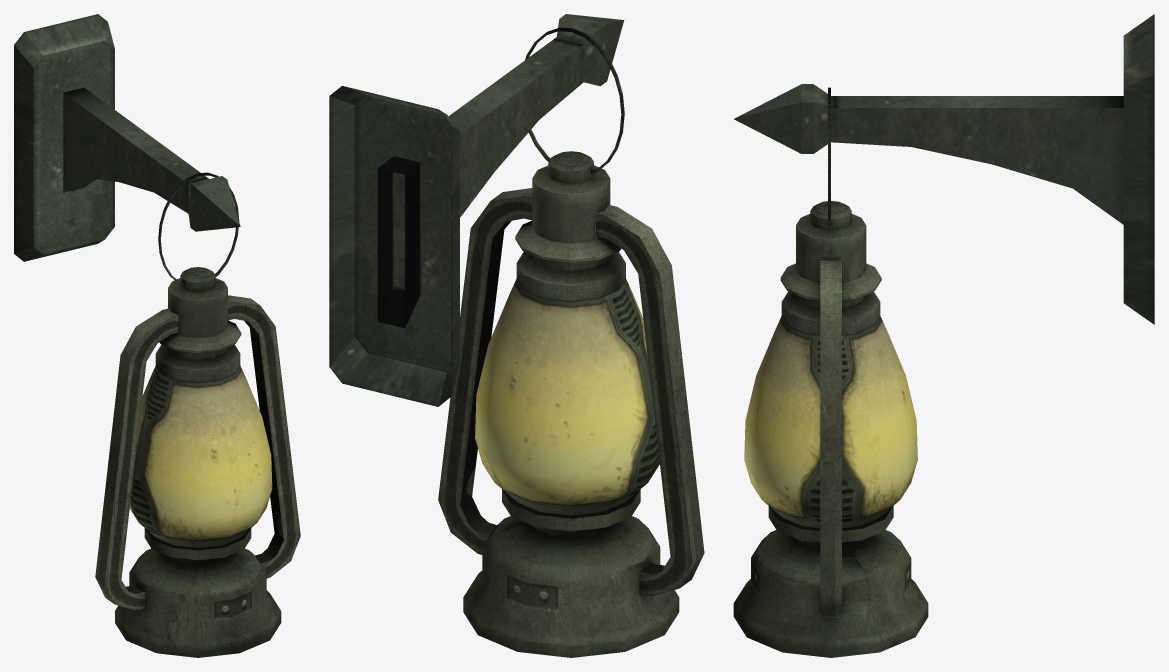
File: WallLamp.DAE
3 renders of one model, left to right at view 1: azimuth 30°, elevation 25°; view 2: azimuth 150°, elevation 25°; view 3: azimuth 270°, elevation 25°, orthographic. The views are drawn at different scales.
Parts seen in each view (by area): view 1: Wall_Lamp; view 2: Wall_Lamp; view 3: Wall_Lamp.
Part boxes in pixels (box(x1,y1,x2,y2)): Wall_Lamp: box(14, 14, 300, 657); Wall_Lamp: box(329, 14, 704, 657); Wall_Lamp: box(733, 14, 1154, 657).
Bounding box in the file's own units: 0.2854 × 0.4535 × 0.6921.
